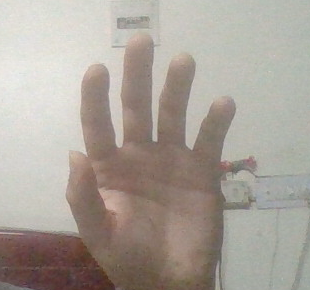move: (60, 27, 241, 279)
